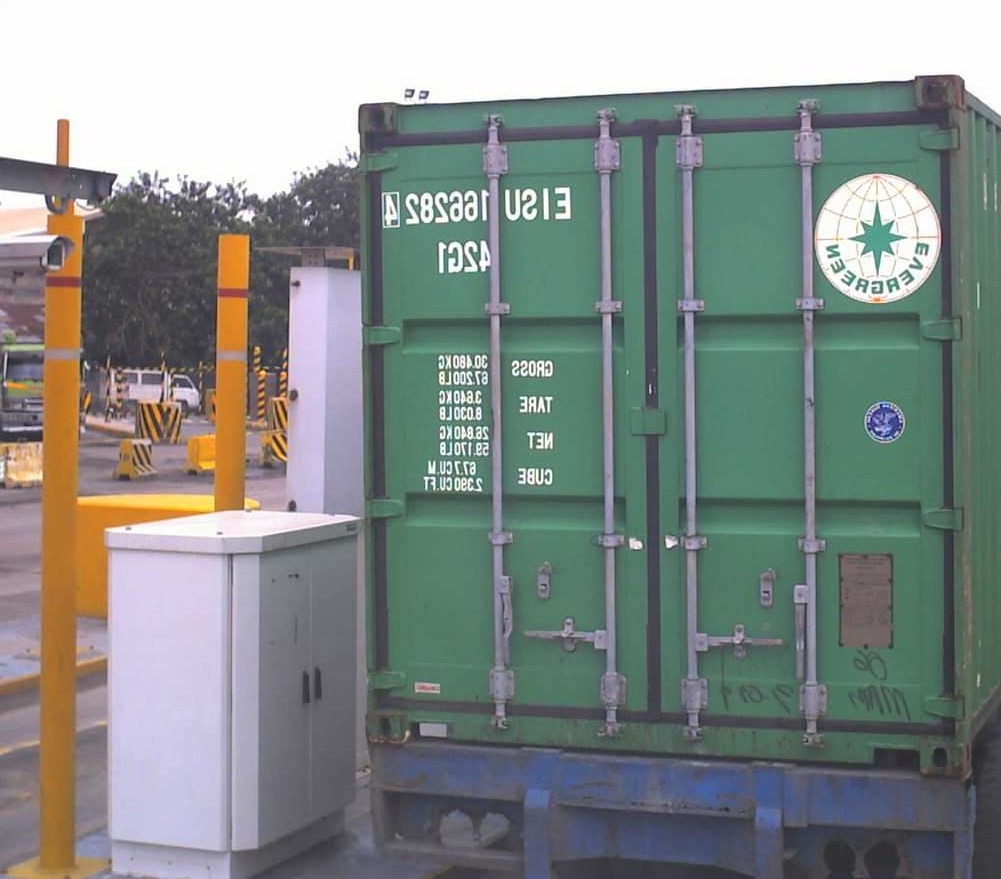container_door: (371, 72, 961, 769)
